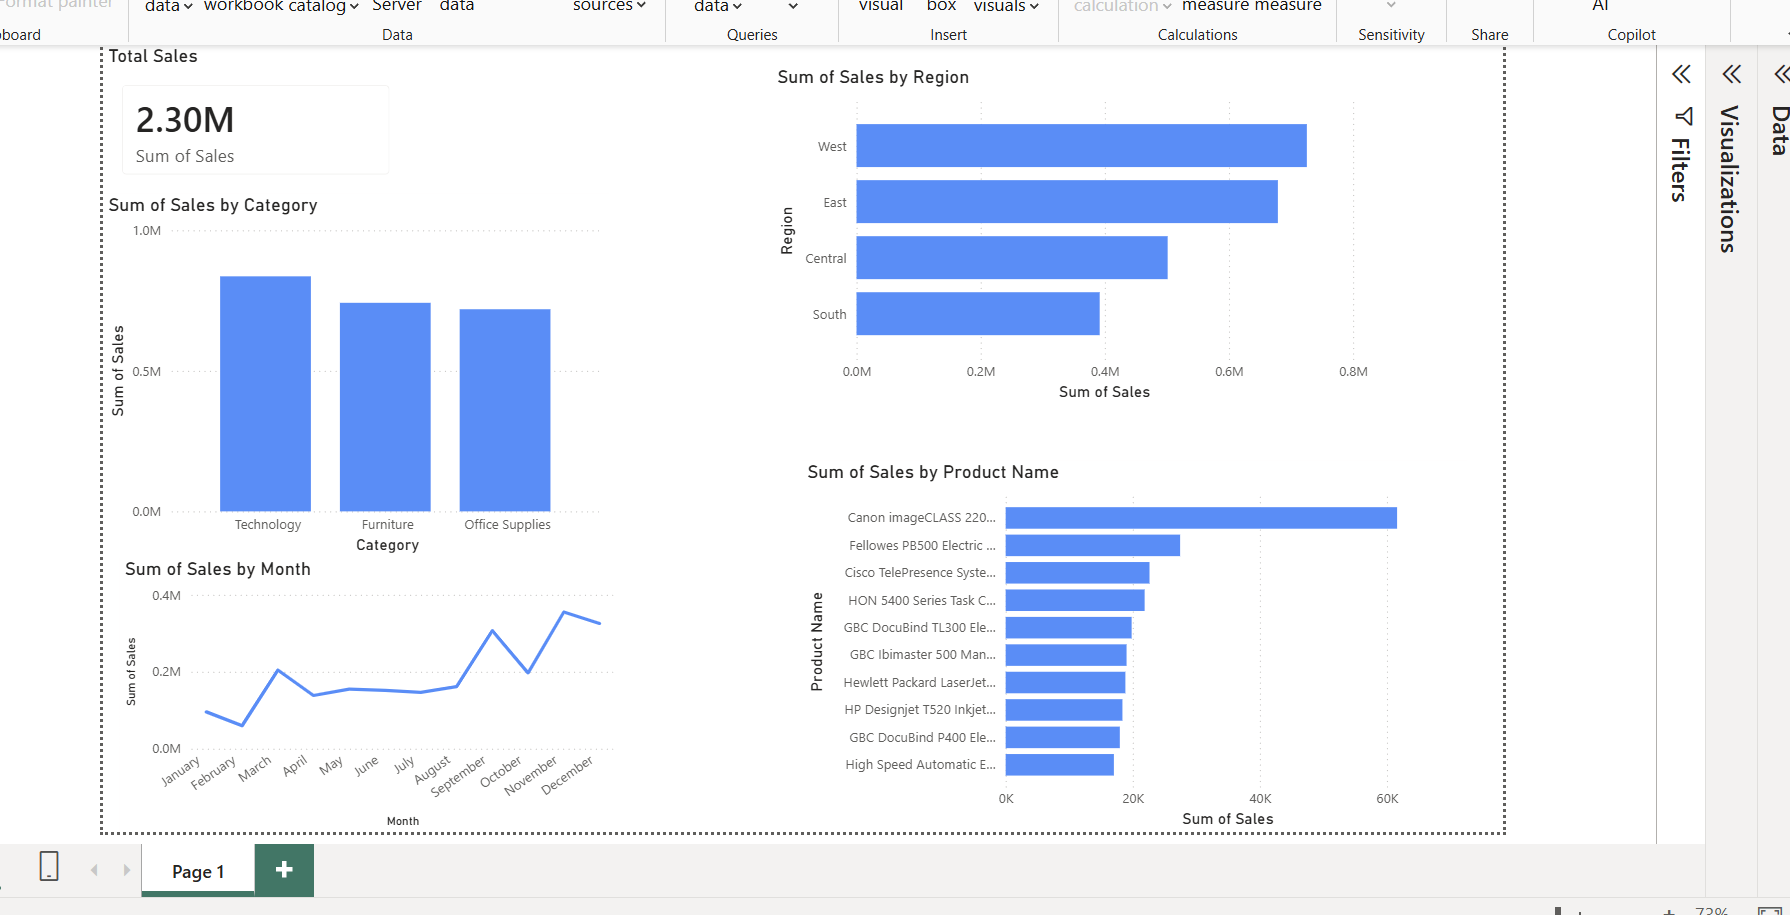

Layout of this report page (visuals, bound fields, positions):
{"tool":"powerbi","page":{"name":"Page 1","canvas":[1280,720],"ordinal":0},"visuals":[{"type":"cardVisual","title":"Total Sales","fields":{"Data":["Sum(sales_data.Sales)"]},"box":[0,0,279.7,136.1],"z":0},{"type":"clusteredColumnChart","fields":{"Category":["sales_data.Category"],"Y":["Sum(sales_data.Sales)"]},"box":[0,135.9,462.5,333.5],"z":1},{"type":"lineChart","fields":{"Category":["sales_data.Order Date.Variation.Date Hierarchy.Month"],"Y":["Sum(sales_data.Sales)"]},"box":[15.1,469.3,457,251.1],"z":2},{"type":"clusteredBarChart","fields":{"Category":["sales_data.Region"],"Y":["Sum(sales_data.Sales)"]},"box":[548.9,34.3,550.3,310.1],"z":3},{"type":"clusteredBarChart","fields":{"Category":["sales_data.Product Name"],"Y":["Sum(sales_data.Sales)"]},"box":[536.6,380.1,607.9,340.3],"z":4}]}

Visuals, with their boxes on the page's 1280x720 design canvas (x1, y1, x2, y2). These are canvas units, not pixel positions in the 1790x915 screenshot, which may show the page scaled, cropped or inside an application window:
"Total Sales" cardVisual: {"left": 0, "top": 0, "right": 280, "bottom": 136}
clusteredColumnChart - sales_data.Category x Sum(sales_data.Sales): {"left": 0, "top": 136, "right": 462, "bottom": 469}
lineChart - sales_data.Order Date.Variation.Date Hierarchy.Month x Sum(sales_data.Sales): {"left": 15, "top": 469, "right": 472, "bottom": 720}
clusteredBarChart - sales_data.Region x Sum(sales_data.Sales): {"left": 549, "top": 34, "right": 1099, "bottom": 344}
clusteredBarChart - sales_data.Product Name x Sum(sales_data.Sales): {"left": 537, "top": 380, "right": 1144, "bottom": 720}
